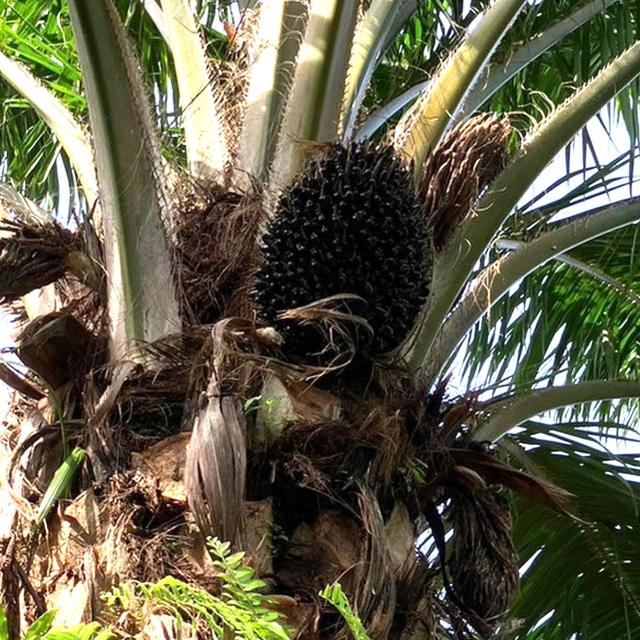unripe: (252, 137, 441, 352)
